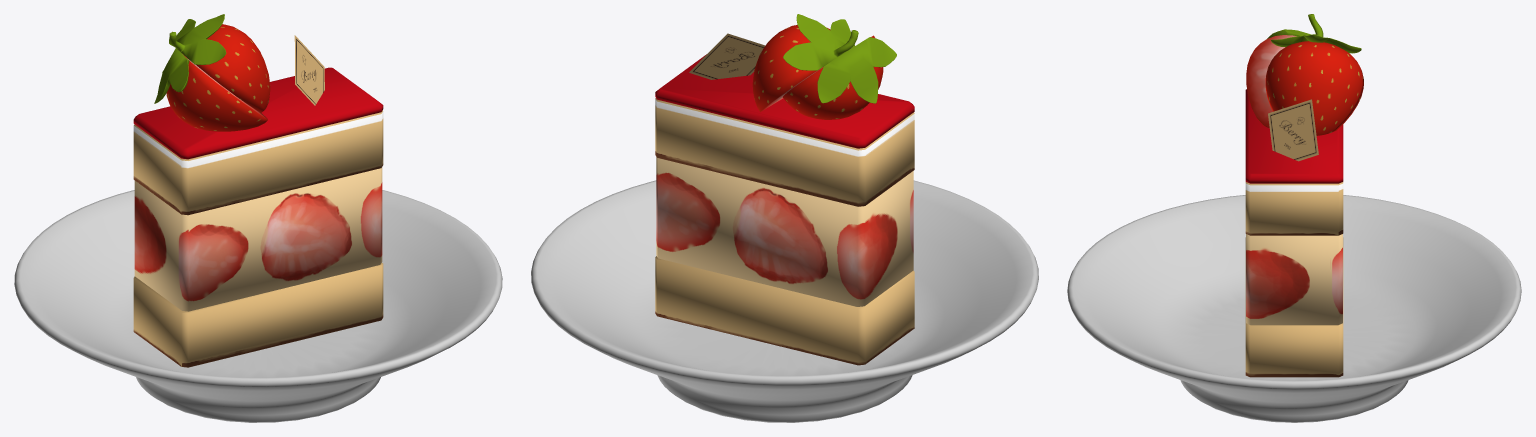
The model's file is berry-up.fbx.
3 views of the same model, side by side, from view 1: azimuth 30°, elevation 25°; view 2: azimuth 150°, elevation 25°; view 3: azimuth 270°, elevation 25° (orthographic). The views are drawn at different scales.
Visible parts, largest first — view 1: dish, cake.003, cream, cake.2, berry.001, berry, leaf.002, card, leaf.003; view 2: dish, cake.003, cream, cake.2, leaf.003, berry, leaf.002, berry.001, card; view 3: dish, cake.003, cream, berry, cake.2, card, berry.001, leaf.002.
Part boxes in pixels (bbox=[...]): dish: bbox=[14, 190, 502, 422]; cake.003: bbox=[133, 110, 383, 367]; cream: bbox=[134, 167, 382, 311]; cake.2: bbox=[133, 67, 383, 159]; berry.001: bbox=[166, 54, 267, 131]; berry: bbox=[196, 24, 270, 112]; leaf.002: bbox=[169, 14, 226, 64]; card: bbox=[294, 35, 324, 105]; leaf.003: bbox=[154, 48, 189, 103]; dish: bbox=[531, 180, 1038, 422]; cake.003: bbox=[655, 98, 914, 365]; cream: bbox=[656, 157, 913, 306]; cake.2: bbox=[655, 54, 914, 148]; leaf.003: bbox=[817, 37, 896, 103]; berry: bbox=[752, 25, 830, 112]; leaf.002: bbox=[783, 14, 858, 70]; berry.001: bbox=[782, 35, 883, 119]; card: bbox=[689, 33, 765, 79]; dish: bbox=[1067, 195, 1521, 422]; cake.003: bbox=[1245, 182, 1343, 377]; cream: bbox=[1246, 234, 1342, 325]; berry: bbox=[1265, 41, 1363, 135]; cake.2: bbox=[1245, 89, 1343, 183]; card: bbox=[1268, 99, 1318, 161]; berry.001: bbox=[1246, 35, 1296, 128]; leaf.002: bbox=[1271, 14, 1361, 53].
Bounding box in the file's own units: 8.38 × 6.76 × 8.38.
Materials: 7 (4 with a texture image).
